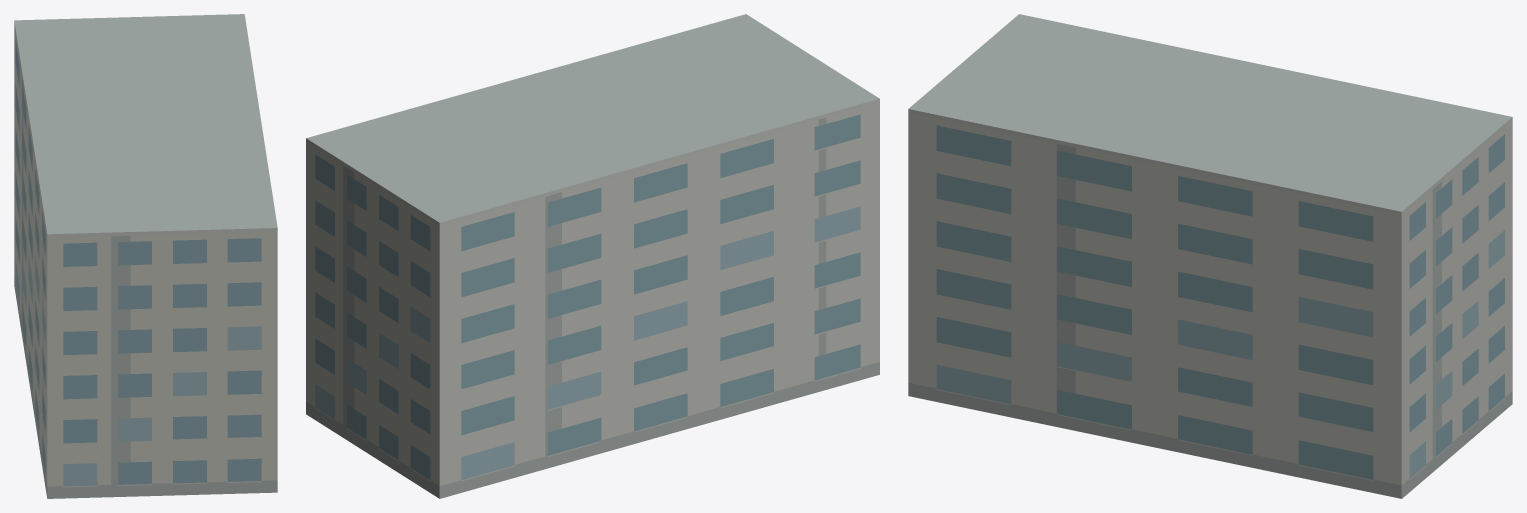
File: residential-a5e4664f-fd1e-4920-af71-d6924887566c.glb
3 renders of one model, left to right at view 1: azimuth 30°, elevation 25°; view 2: azimuth 150°, elevation 25°; view 3: azimuth 270°, elevation 25°, orthographic. The views are drawn at different scales.
Visible parts, largest first — view 1: residential-a5e4664f-fd1e-4920-af71-d6924887566c.tmp; view 2: residential-a5e4664f-fd1e-4920-af71-d6924887566c.tmp; view 3: residential-a5e4664f-fd1e-4920-af71-d6924887566c.tmp.
Part boxes in pixels (x1,y1,x2,y2): residential-a5e4664f-fd1e-4920-af71-d6924887566c.tmp: (14, 14, 277, 498); residential-a5e4664f-fd1e-4920-af71-d6924887566c.tmp: (306, 14, 879, 498); residential-a5e4664f-fd1e-4920-af71-d6924887566c.tmp: (908, 14, 1512, 498).
Bounding box in the file's own units: 26.61 × 18 × 34.35.
